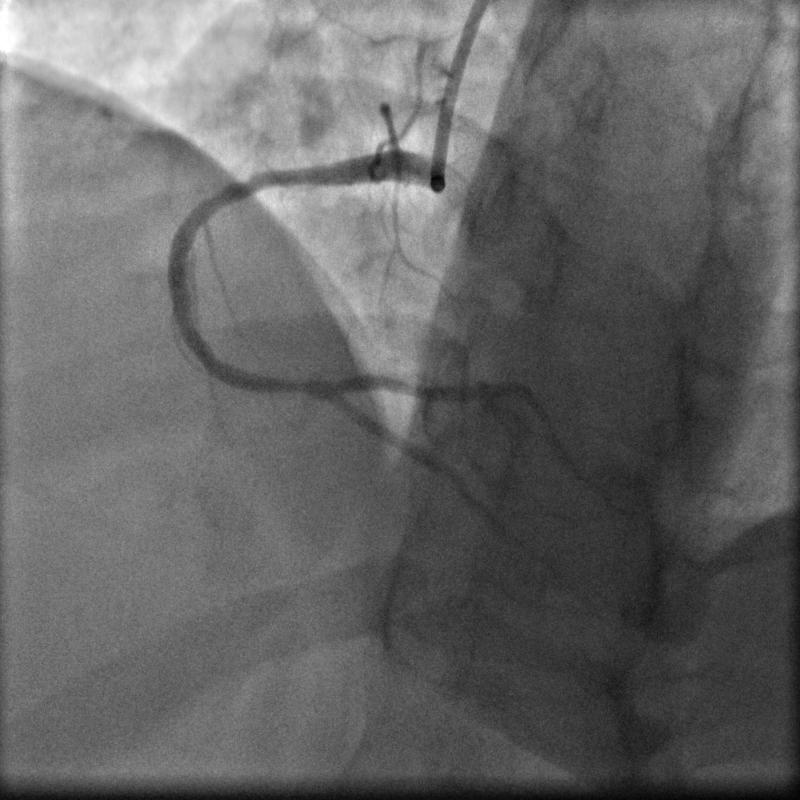Stenosis: (281, 368, 325, 402)
